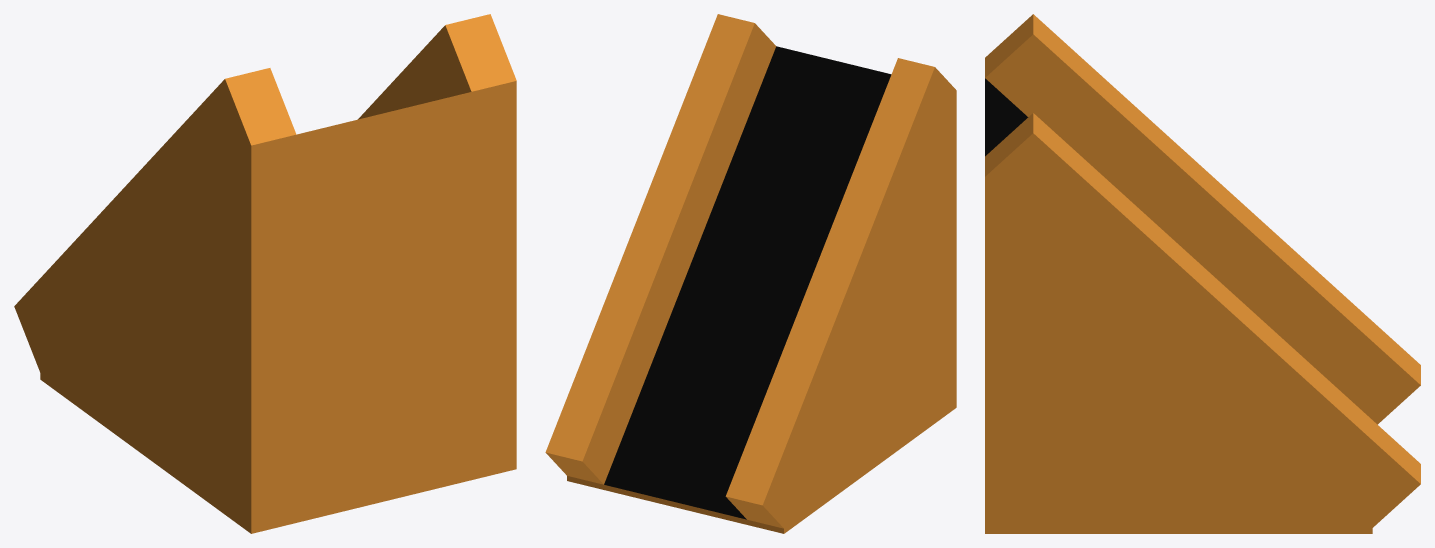
File: convenyor2.0.glb
The picture shows the model from 3 angles, left to right: view 1: azimuth 30°, elevation 25°; view 2: azimuth 150°, elevation 25°; view 3: azimuth 270°, elevation 25°; orthographic projection. The views are drawn at different scales.
Visible parts, largest first — view 1: Cube.004; view 2: Cube.004; view 3: Cube.004.
Boxes of the visible parts, box(x1,y1,x2,y2) form: Cube.004: box(14, 14, 516, 533); Cube.004: box(545, 14, 956, 533); Cube.004: box(985, 14, 1420, 533).
Size of the model in its own units: 17.4 by 27.3 by 26.91.
